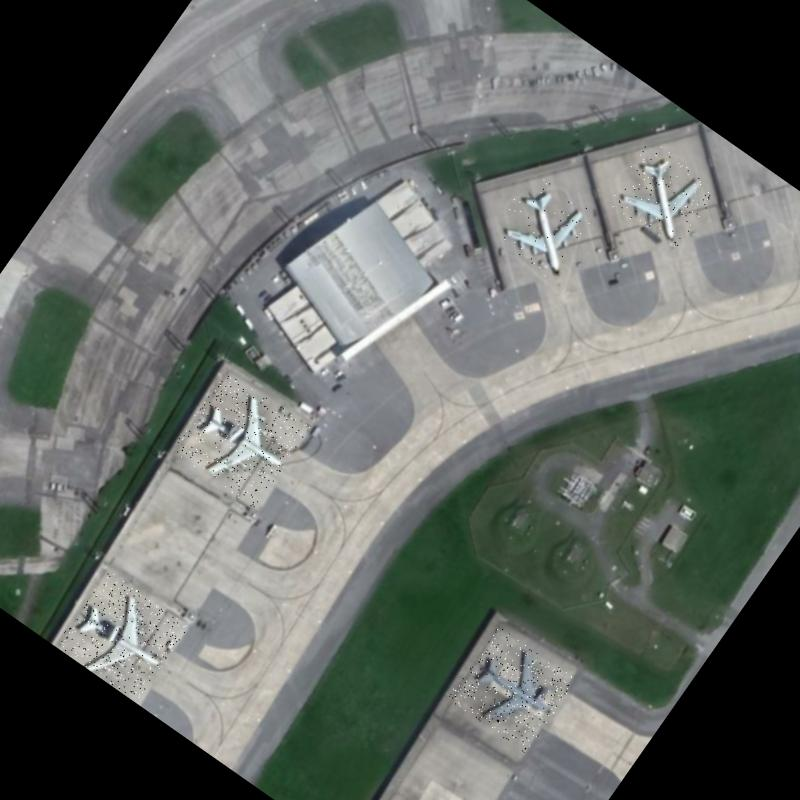A11: (486, 171, 599, 285), (606, 140, 720, 252)
A14: (446, 625, 577, 754)
A7: (170, 369, 311, 509), (55, 570, 189, 702)
